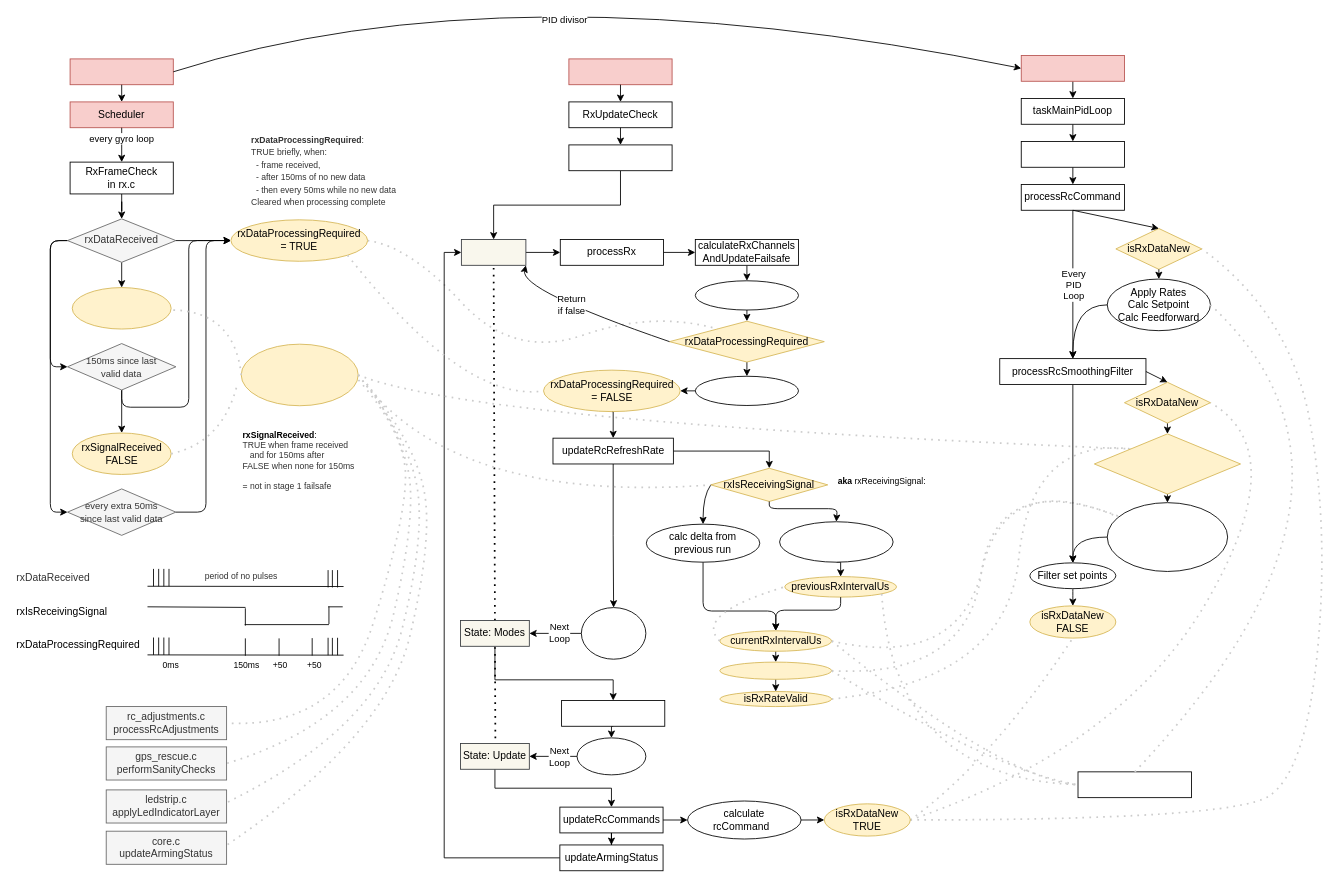
This 1337x886 diagram has some shape labels left out. The shapes that lost their labels are listed below. From the top down, each one's centre as x and y in pixels, then its label:
At [121,71]: "Gyro Loop".
At [620,71]: "Tasks".
At [1072,68]: "PID Loop".
At [620,157]: "taskUpdateRxMain".
At [1072,154]: "subtaskRcCommand".
At [493,252]: "State: Check".
At [121,308]: "rxSignalReceived TRUE".
At [746,295]: "do auxiliary processing".
At [299,374]: "rxIsReceivingSignal gets rxSignalReceived".
At [746,390]: "calc rcRaw calc rcData".
At [1167,463]: "rxIsReceivingSignal && isRxRateValid".
At [836,541]: "calc delta from lastRcFrameTimeUs".
At [1167,536]: "Recalc cutoffs: currentRxIntervalUs previousRxIntervalUs currentRxRateHz".
At [613,633]: "RSSI Airmode Launch".
At [775,670]: "currentRxRateHz".
At [613,713]: "processRxModes".
At [611,756]: "Configure flight modes".
At [1134,784]: "calculateFeedforward".
